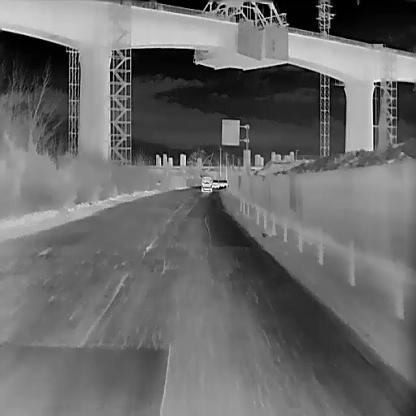car: (201, 176, 211, 191), (211, 178, 219, 188), (220, 180, 228, 186)
